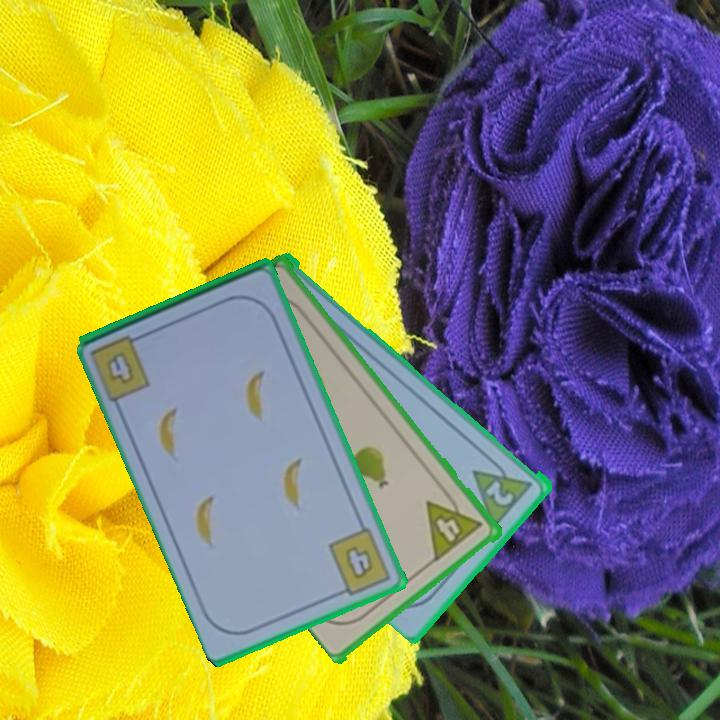2p: (483, 477, 517, 509)
4b: (325, 524, 394, 600), (103, 348, 138, 388)
4p: (423, 486, 487, 563)
